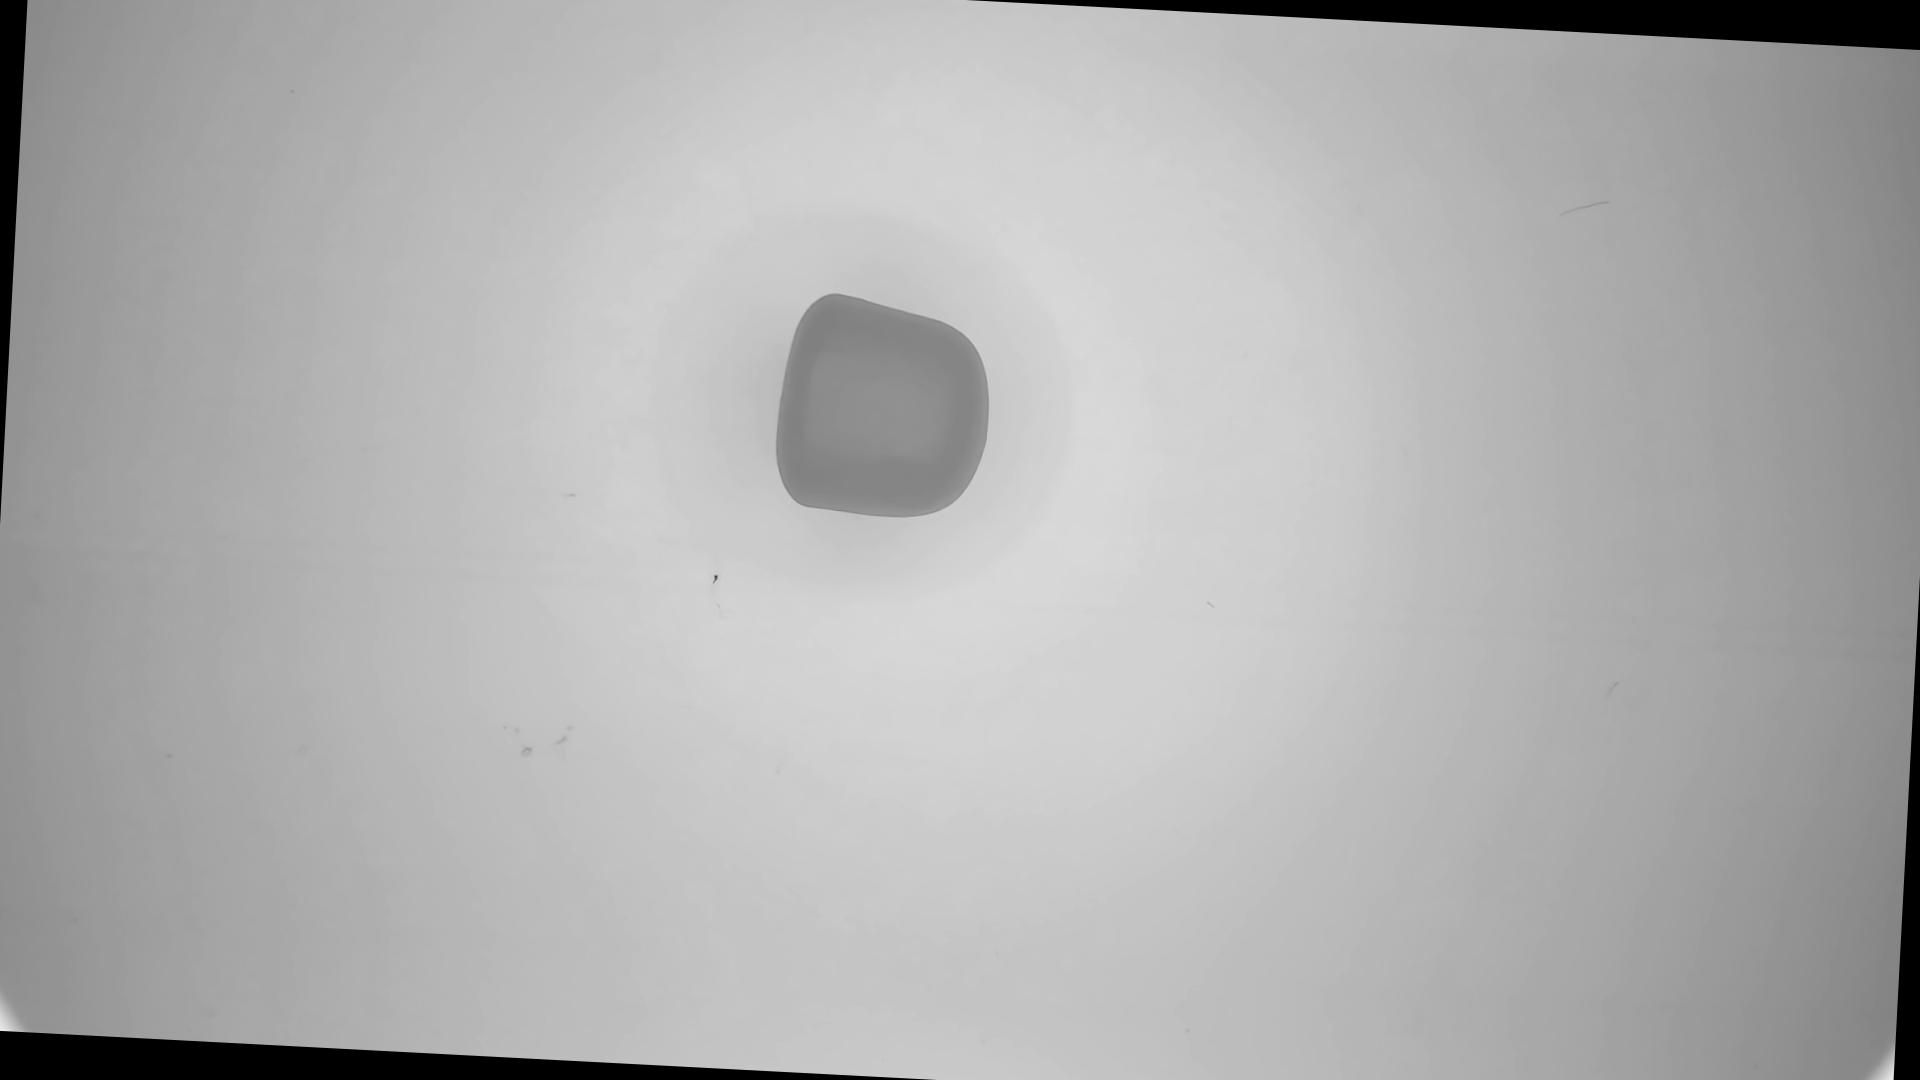normal: (774, 287, 998, 524)
